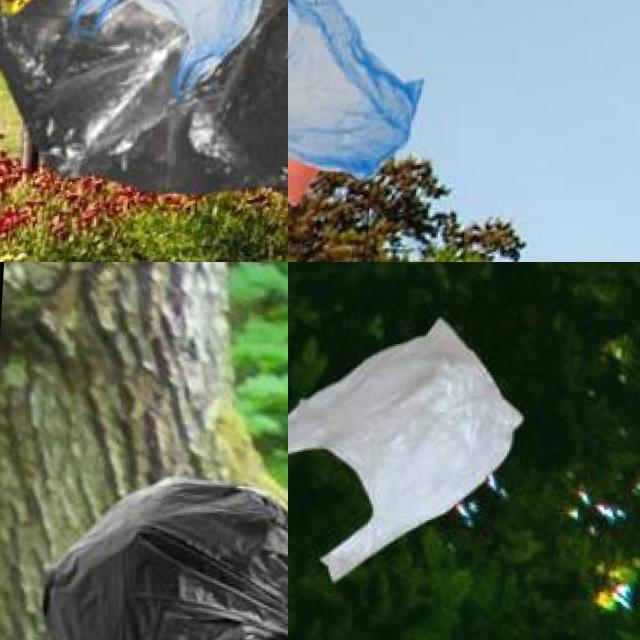waste: (288, 313, 530, 577), (0, 0, 288, 194), (33, 471, 288, 640), (288, 0, 424, 179), (71, 0, 287, 100)
